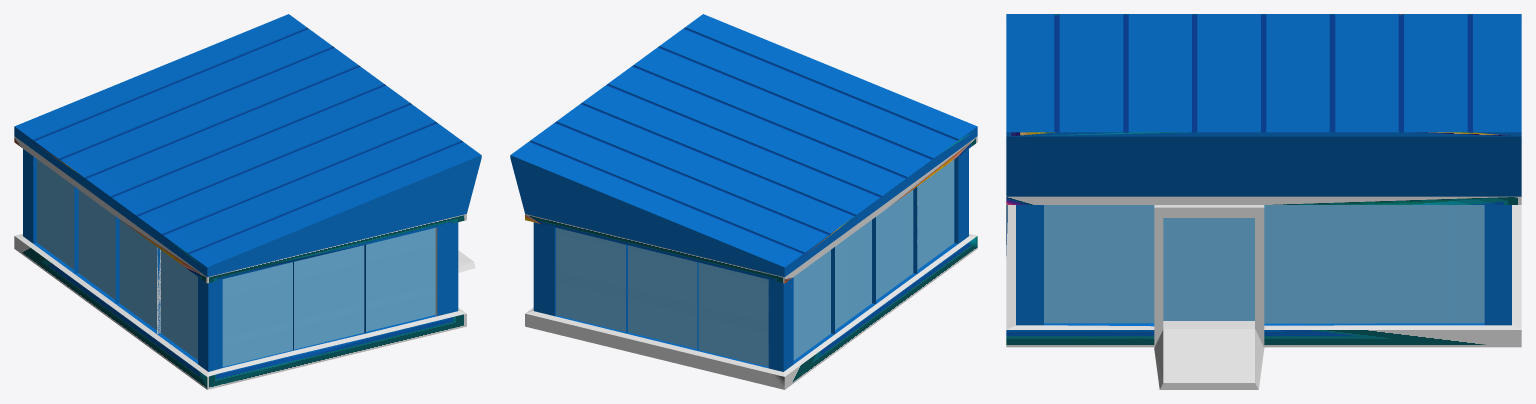
Rendered from build_1_1.dae.
The picture shows the model from 3 angles, left to right: view 1: azimuth 30°, elevation 25°; view 2: azimuth 150°, elevation 25°; view 3: azimuth 270°, elevation 25°; orthographic projection. The views are drawn at different scales.
Parts seen in each view (by area): view 1: house_1; view 2: house_1; view 3: house_1.
Part boxes in pixels (<box>): house_1: <box>14,14,481,389</box>; house_1: <box>510,14,977,389</box>; house_1: <box>1006,14,1521,389</box>.
Bounding box in the file's own units: 10.96 × 11.23 × 5.4.
1 material, 1 textured.
